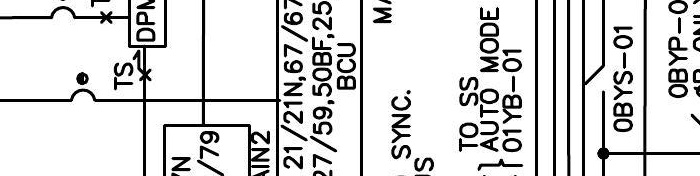115_ds: (585, 65, 606, 95)
